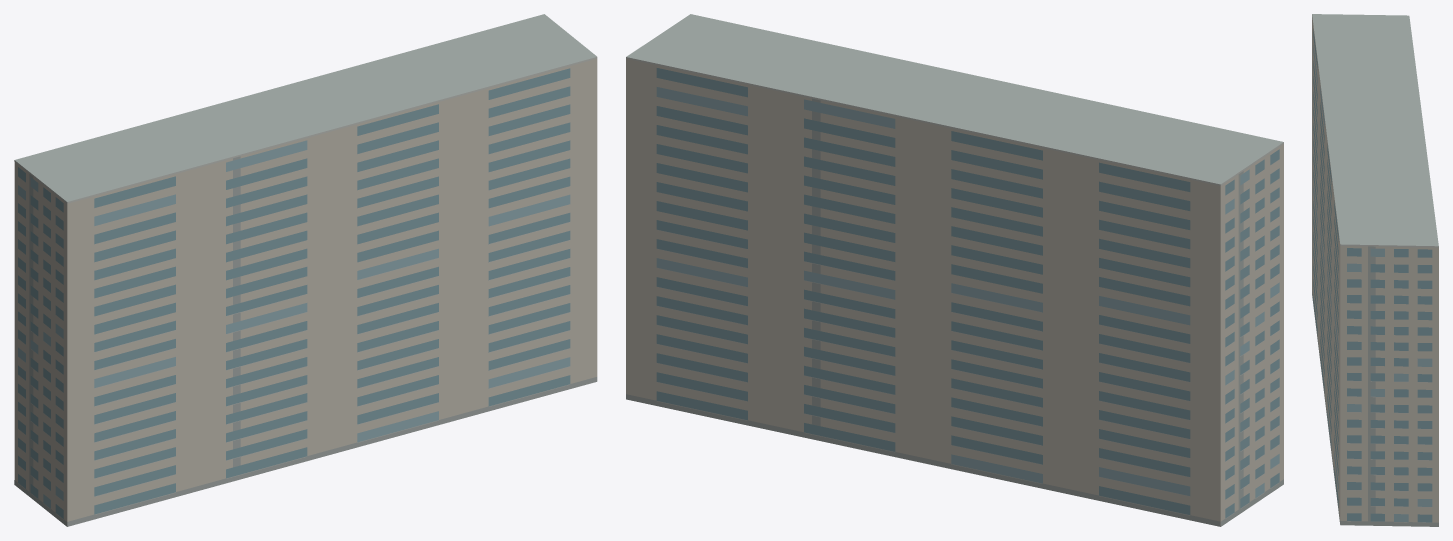
Rendered from residential-ce30efbf-7965-495a-bb9e-c1843eb06f7e.glb.
3 views of the same model, side by side, from view 1: azimuth 30°, elevation 25°; view 2: azimuth 150°, elevation 25°; view 3: azimuth 270°, elevation 25° (orthographic). The views are drawn at different scales.
Visible parts, largest first — view 1: residential-ce30efbf-7965-495a-bb9e-c1843eb06f7e.tmp; view 2: residential-ce30efbf-7965-495a-bb9e-c1843eb06f7e.tmp; view 3: residential-ce30efbf-7965-495a-bb9e-c1843eb06f7e.tmp.
Part boxes in pixels (<box>): residential-ce30efbf-7965-495a-bb9e-c1843eb06f7e.tmp: <box>14,14,597,526</box>; residential-ce30efbf-7965-495a-bb9e-c1843eb06f7e.tmp: <box>626,14,1283,526</box>; residential-ce30efbf-7965-495a-bb9e-c1843eb06f7e.tmp: <box>1312,14,1438,526</box>.
Bounding box in the file's own units: 85.16 × 48 × 19.66.
